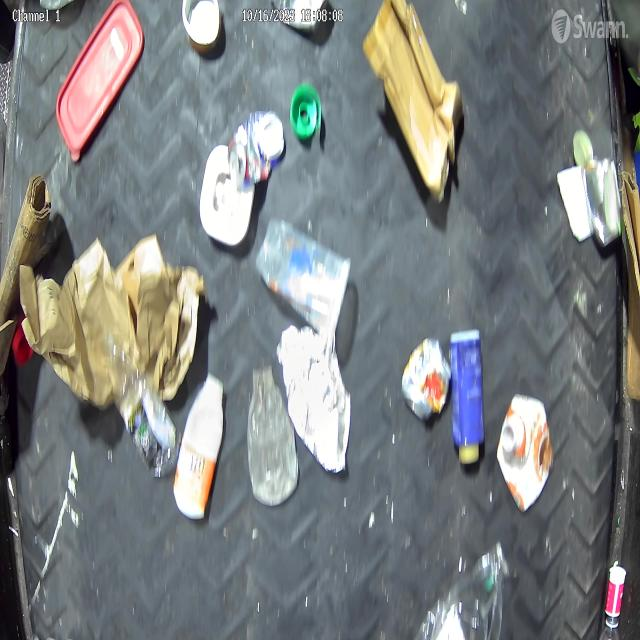can: (228, 110, 290, 196), (404, 332, 452, 420)
plastic_bottle: (104, 336, 176, 469), (248, 362, 294, 499)
